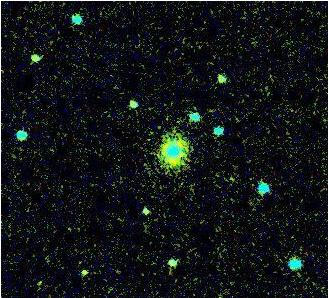star: (68, 264, 98, 294)
